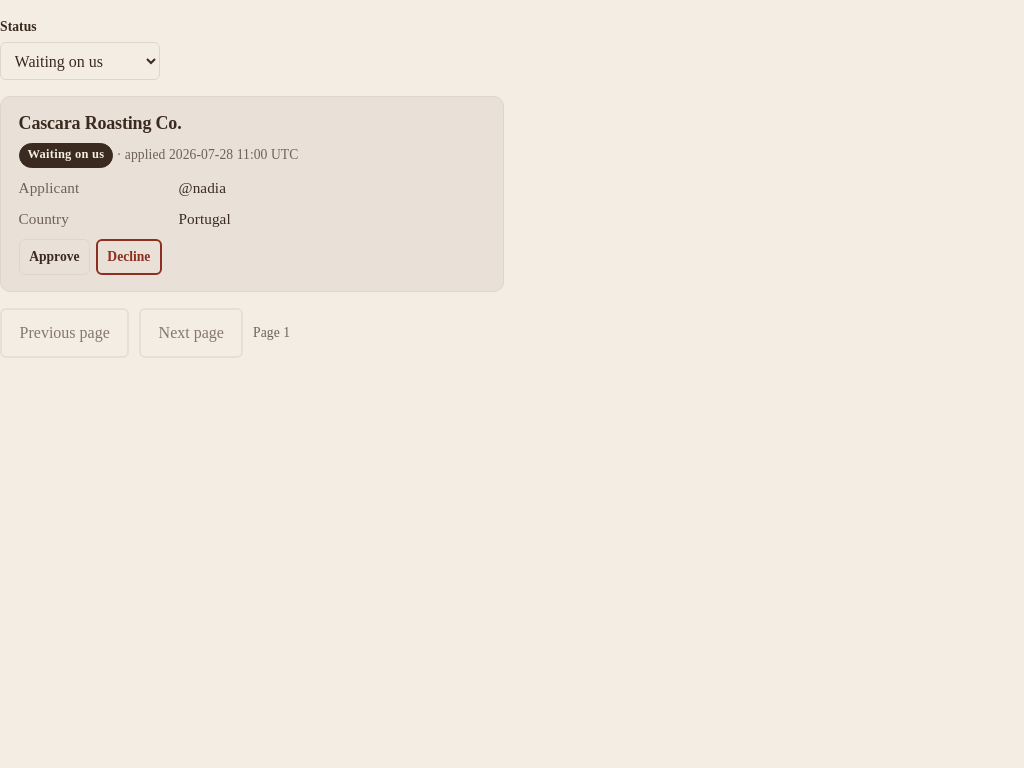
Test: seller applications › explains that approving grants the seller owner role
The width and height of the screenshot is (1024, 768).
Expected: the heading "Cascara Roasting Co." is shown, [19, 113, 182, 133]
Click the button named "approve cascara roasting co.".
click(54, 257)  # box [19, 239, 90, 275]
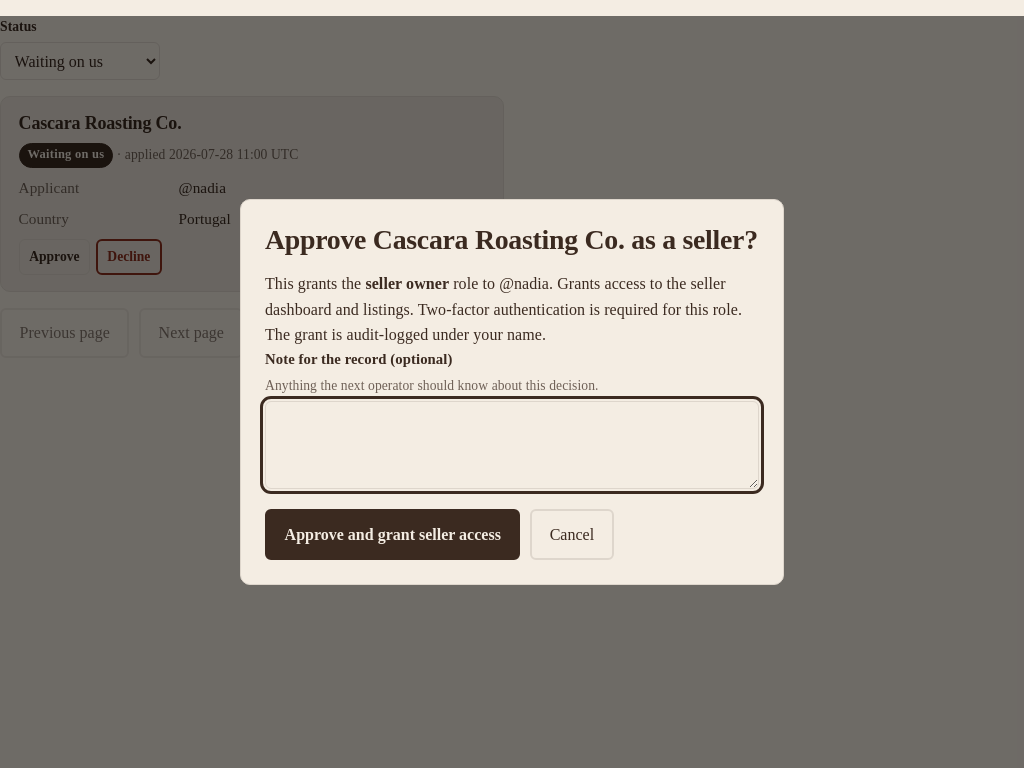
Expected: the text "seller owner" is shown, [365, 275, 449, 292]
Expected: the text "@nadia" is shown, [499, 275, 549, 292]
Expected: the button "Approve and grant seller access" is enabled
Click the button "Approve and grant seller access".
click(393, 534)  # box [265, 509, 520, 560]
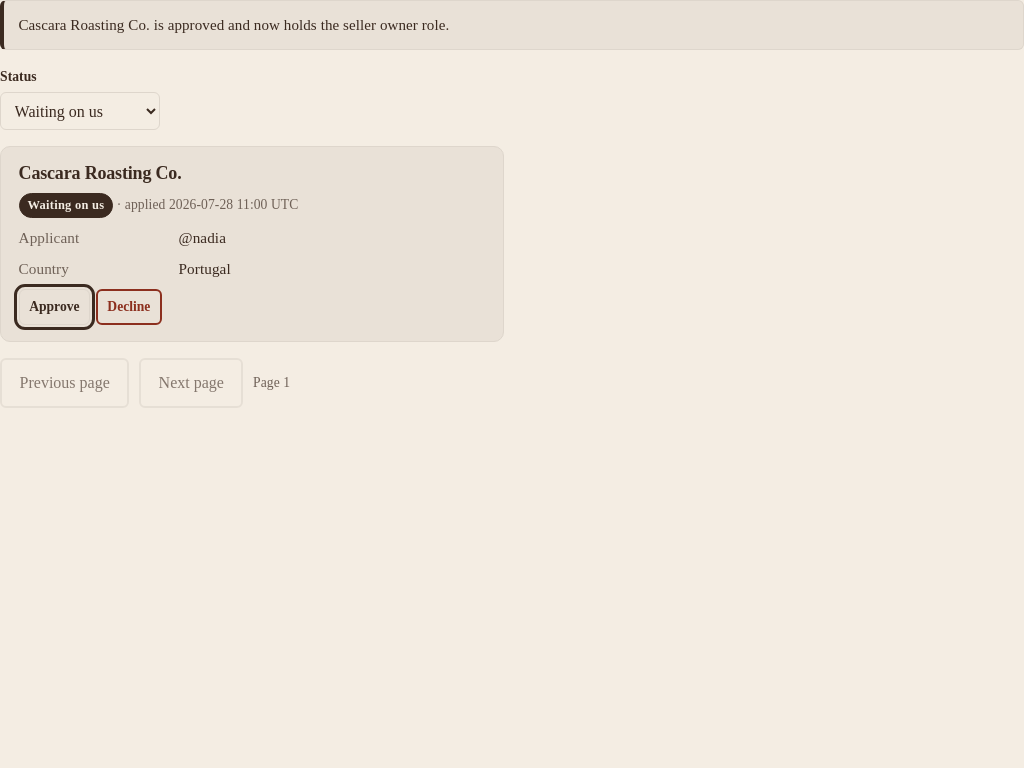
Expected: the text "Cascara Roasting Co. is approved and now holds the seller owner role." is shown, [0, 0, 1023, 50]
